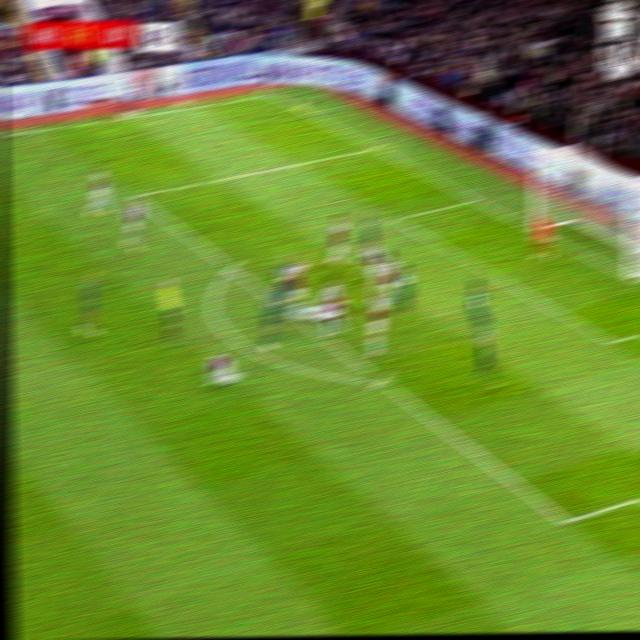bigarea_bottom_inner: (549, 503, 580, 538)
bigarea_top_inner: (123, 184, 144, 205)
bigarea_top_outter: (363, 138, 385, 155)
bottom_arc_area_intersection: (367, 368, 394, 392)
corner: (255, 85, 281, 100)
smallarea_bottom_inner: (596, 324, 625, 355)
smallarea_top_inner: (384, 208, 407, 228)
smallarea_top_outter: (462, 189, 486, 209)
top_arc_area_intersection: (220, 258, 242, 277)
